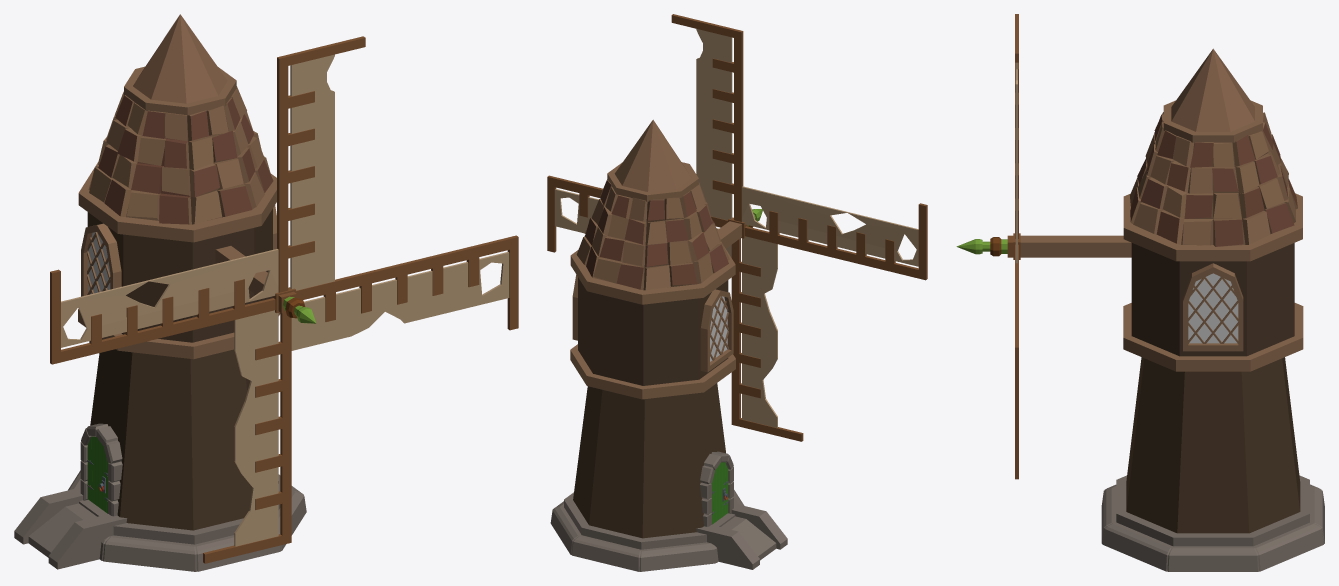
The model's file is SM_hous_05_A.gltf.
The picture shows the model from 3 angles, left to right: view 1: azimuth 30°, elevation 25°; view 2: azimuth 150°, elevation 25°; view 3: azimuth 270°, elevation 25°; orthographic projection. The views are drawn at different scales.
Visible parts, largest first — view 1: SM_hous_05_A, SM_Screw_01_A; view 2: SM_hous_05_A, SM_Screw_01_A; view 3: SM_hous_05_A, SM_Screw_01_A.
Boxes of the visible parts, box(x1,y1,x2,y2) form: SM_hous_05_A: box(14, 14, 306, 571); SM_Screw_01_A: box(50, 36, 518, 563); SM_hous_05_A: box(550, 119, 787, 571); SM_Screw_01_A: box(547, 14, 927, 441); SM_hous_05_A: box(1020, 48, 1324, 571); SM_Screw_01_A: box(956, 14, 1020, 479).
Bounding box in the file's own units: 13.19 × 14.54 × 9.56.
